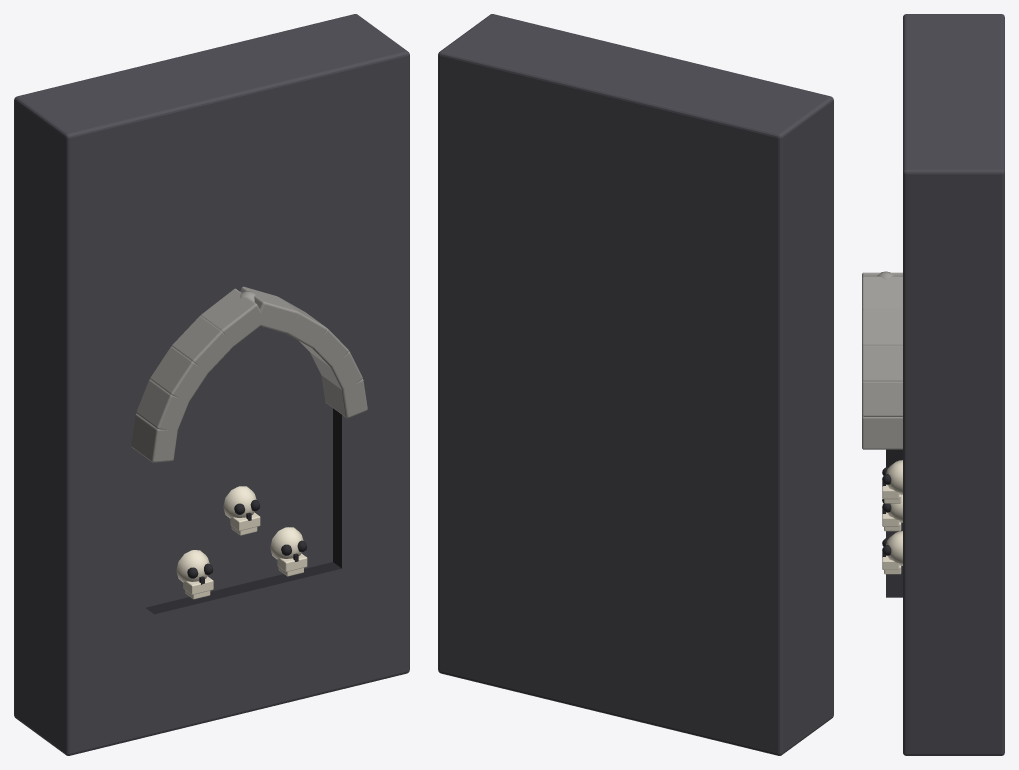
The model's file is crypt_niche_skull_niche.glb.
The picture shows the model from 3 angles, left to right: view 1: azimuth 30°, elevation 25°; view 2: azimuth 150°, elevation 25°; view 3: azimuth 270°, elevation 25°; orthographic projection. The views are drawn at different scales.
Parts seen in each view (by area): view 1: GD_crypt_niche_skull_niche__m0, GD_crypt_niche_skull_niche__m2, GD_crypt_niche_skull_niche__m1, GD_crypt_niche_skull_niche__m3; view 2: GD_crypt_niche_skull_niche__m0; view 3: GD_crypt_niche_skull_niche__m0, GD_crypt_niche_skull_niche__m2, GD_crypt_niche_skull_niche__m3, GD_crypt_niche_skull_niche__m1.
Part boxes in pixels (x1,y1,x2,y2): GD_crypt_niche_skull_niche__m0: (14, 14, 409, 755); GD_crypt_niche_skull_niche__m2: (131, 286, 367, 462); GD_crypt_niche_skull_niche__m1: (145, 408, 341, 614); GD_crypt_niche_skull_niche__m3: (176, 486, 307, 599); GD_crypt_niche_skull_niche__m0: (438, 14, 833, 755); GD_crypt_niche_skull_niche__m0: (903, 14, 1004, 755); GD_crypt_niche_skull_niche__m2: (862, 271, 902, 449); GD_crypt_niche_skull_niche__m3: (882, 460, 902, 574); GD_crypt_niche_skull_niche__m1: (882, 449, 902, 597).
Size of the model in its own units: 1.1 by 1.9 by 0.42.
